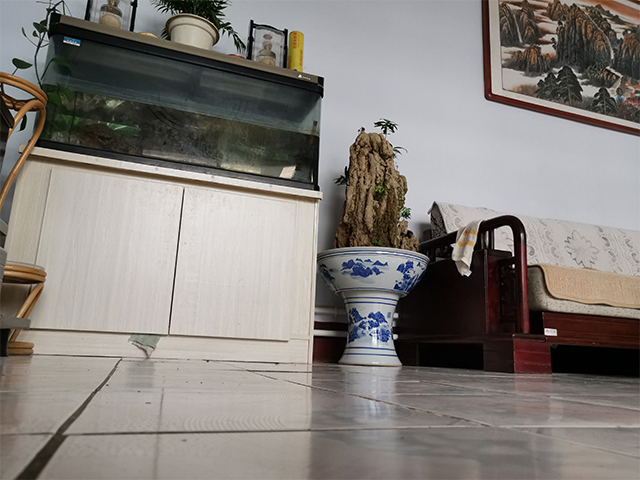cabinet: (1, 152, 324, 365)
sofa: (396, 198, 640, 375)
